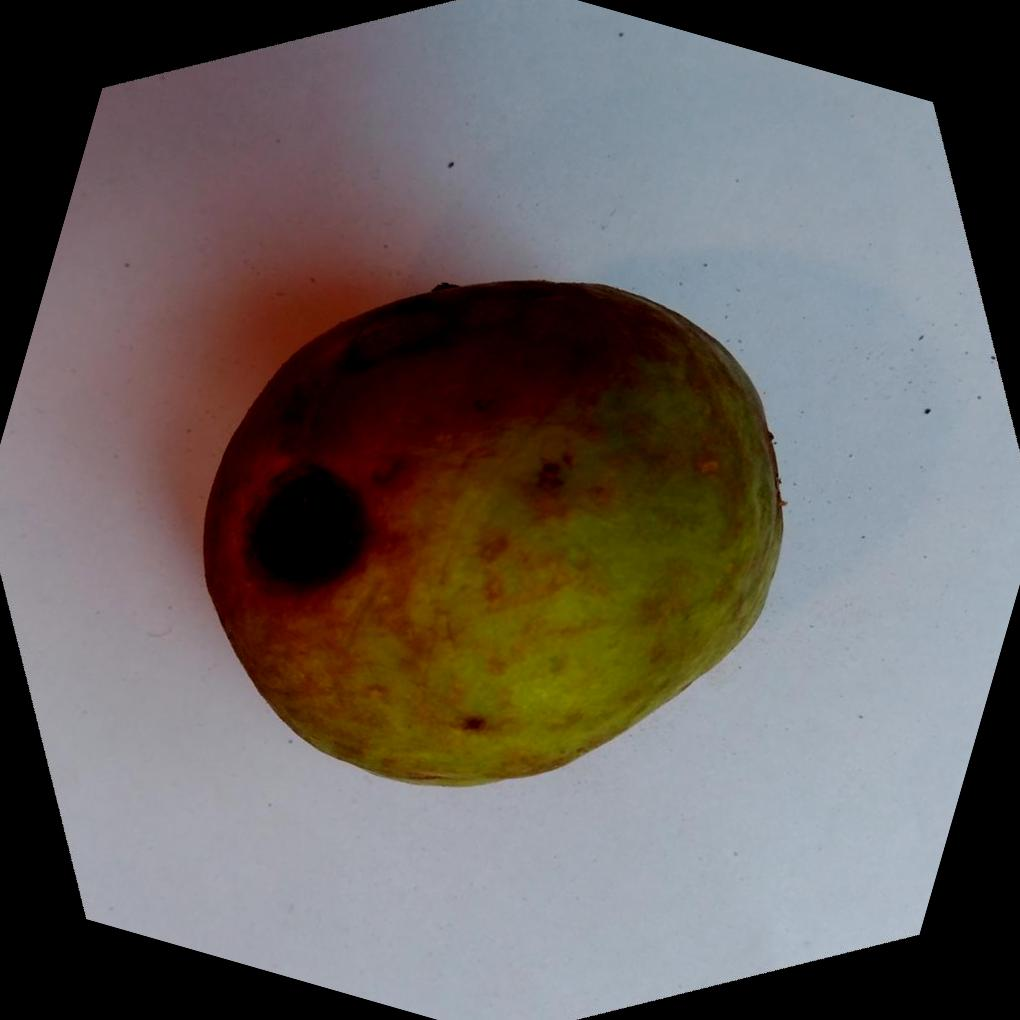FreshOrange: (200, 275, 785, 785)
